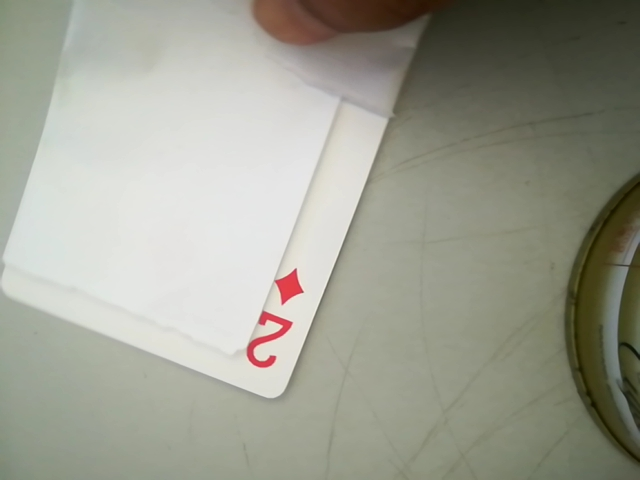fk 2: (235, 261, 309, 384)
